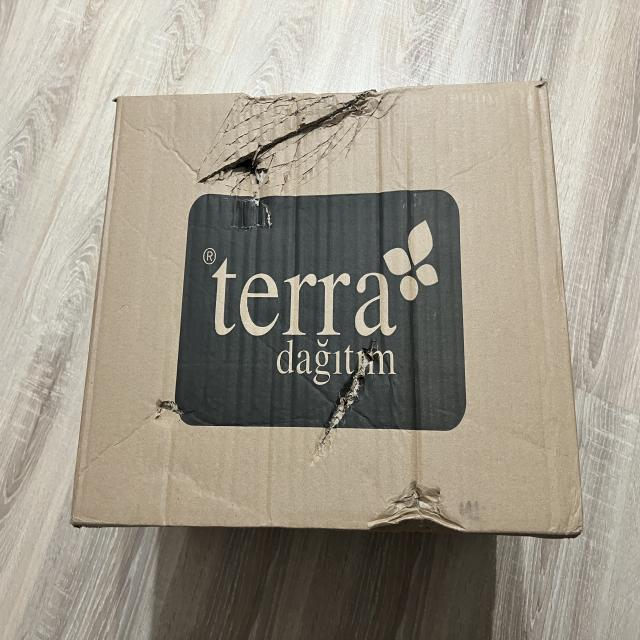damaged: (57, 67, 595, 549), (185, 80, 422, 236), (307, 326, 391, 470), (371, 474, 474, 535), (147, 392, 198, 424)
